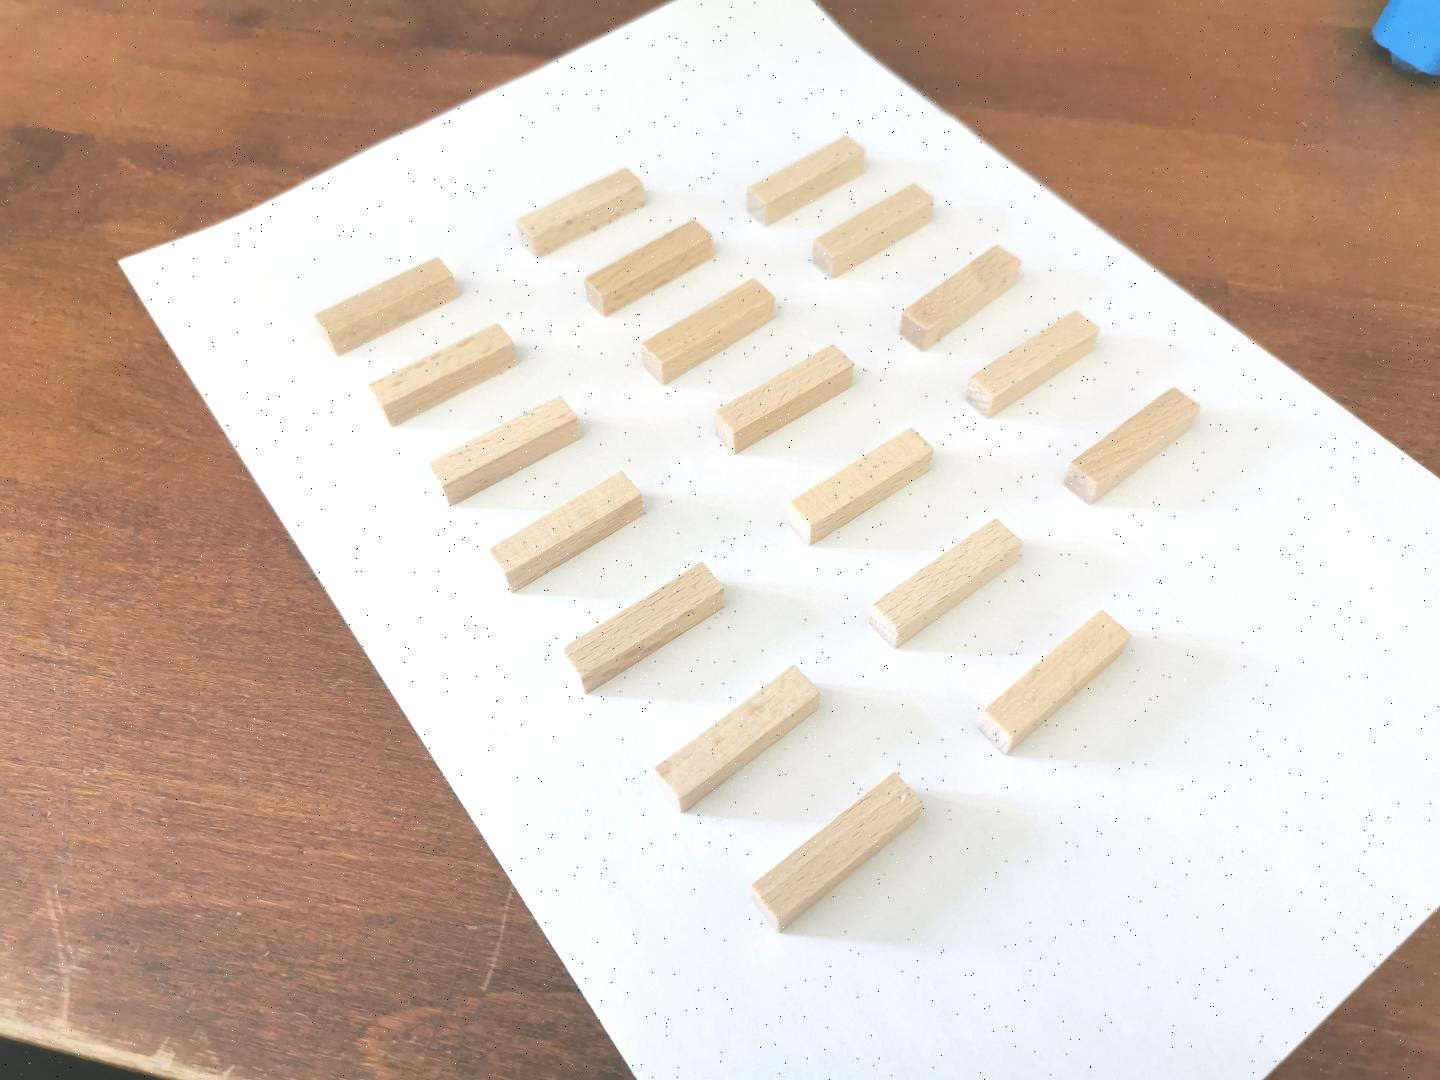jenga: (751, 774, 923, 931), (655, 667, 819, 812), (979, 610, 1130, 753), (562, 563, 726, 692), (869, 521, 1020, 647), (490, 472, 644, 591), (788, 430, 934, 546), (427, 397, 579, 504), (1064, 388, 1198, 504), (369, 323, 517, 424), (714, 346, 853, 453), (642, 278, 773, 386), (315, 259, 458, 354), (967, 312, 1096, 416), (900, 247, 1020, 352), (585, 219, 712, 315), (813, 186, 934, 278), (517, 169, 644, 256), (745, 135, 864, 225)
